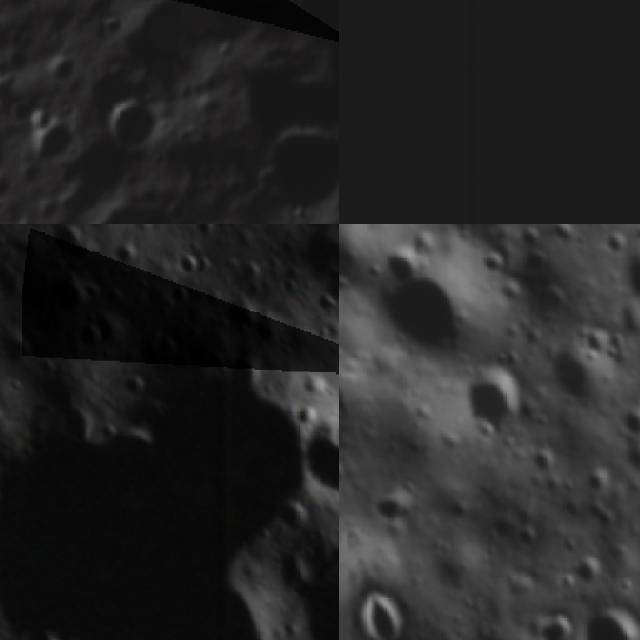crater: (339, 0, 640, 224), (343, 224, 500, 382), (448, 354, 544, 459), (535, 335, 611, 414), (68, 178, 187, 224), (558, 588, 640, 640), (12, 113, 75, 180), (99, 93, 167, 155), (297, 411, 339, 492), (606, 236, 640, 327), (565, 543, 621, 595), (360, 481, 414, 532), (45, 273, 90, 315), (608, 390, 640, 447), (577, 466, 620, 506), (523, 441, 564, 482), (249, 308, 287, 347), (512, 520, 546, 554), (228, 354, 262, 387), (0, 331, 33, 365), (116, 371, 148, 397), (16, 626, 67, 640)
